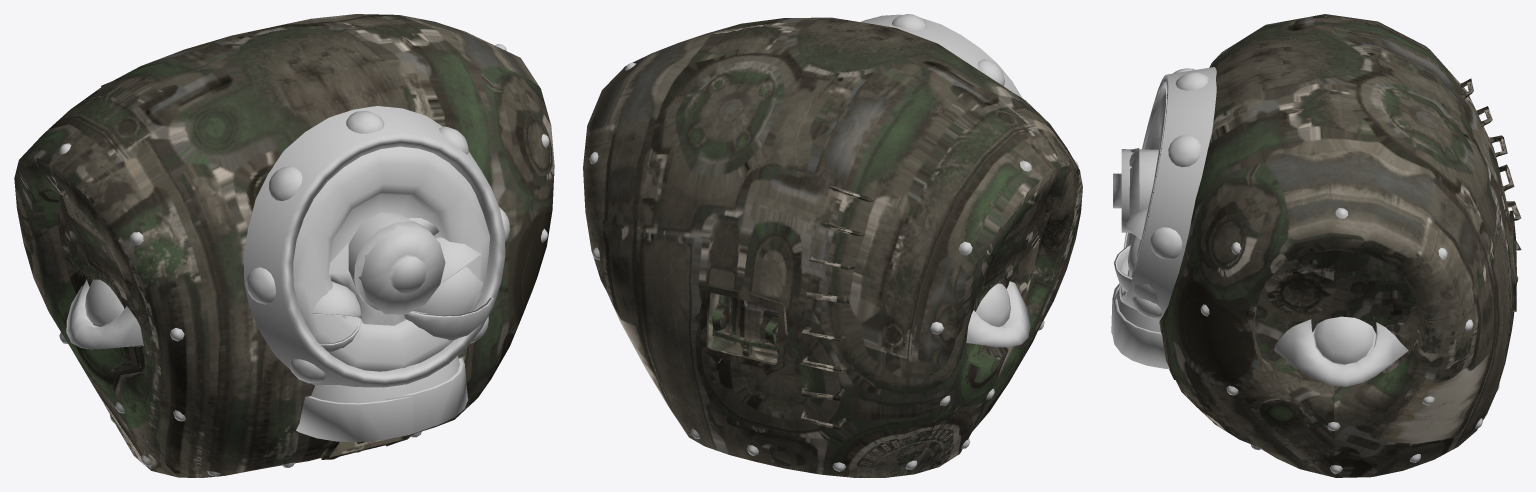
The picture shows the model from 3 angles, left to right: view 1: azimuth 30°, elevation 25°; view 2: azimuth 150°, elevation 25°; view 3: azimuth 270°, elevation 25°; orthographic projection. The views are drawn at different scales.
Visible parts, largest first — view 1: Chest, neck, head, feetR, ruparm, feetL; view 2: Chest, neck, ruparm; view 3: Chest, neck, luparm, feetL, head.
Boxes of the visible parts, x1,y1,x2,y2 form: Chest: (14, 14, 554, 477); neck: (59, 44, 549, 476); head: (309, 218, 494, 352); feetR: (296, 368, 430, 442); ruparm: (66, 279, 143, 349); feetL: (385, 356, 467, 431); Chest: (583, 17, 1082, 477); neck: (589, 14, 1078, 471); ruparm: (966, 281, 1030, 347); Chest: (1159, 14, 1521, 477); neck: (1113, 67, 1499, 473); luparm: (1274, 316, 1408, 386); feetL: (1112, 289, 1169, 368); head: (1114, 207, 1158, 303).
Size of the model in its own units: 10.88 by 9.63 by 9.33.
